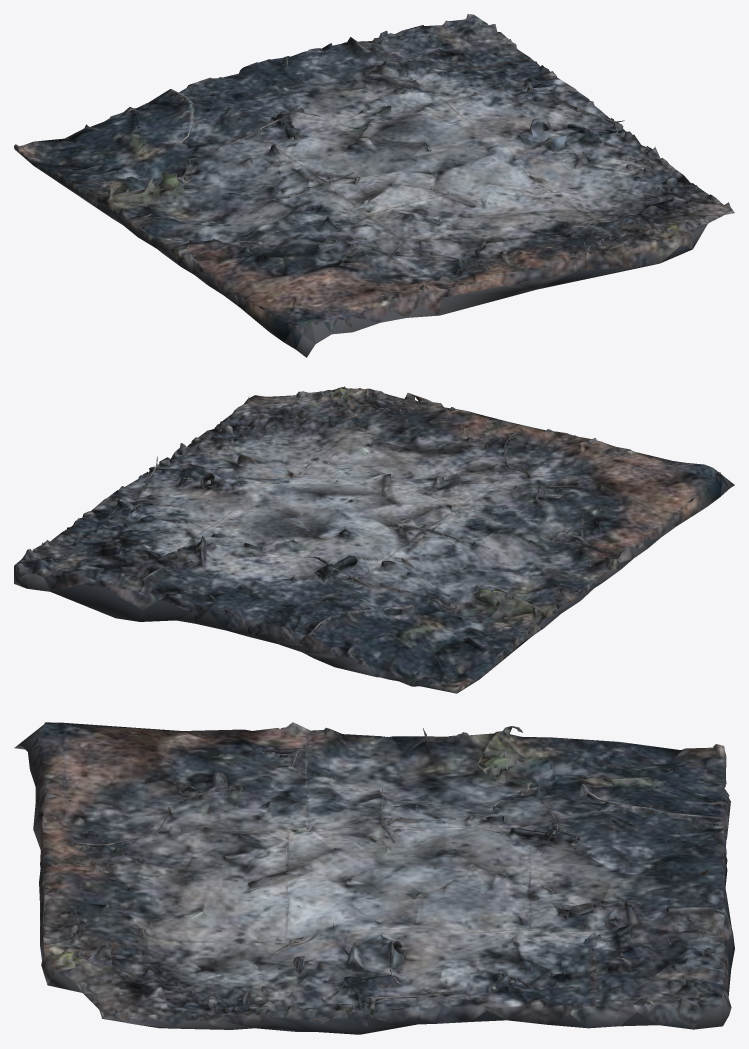
The model's file is hearth-ash-mobile.glb.
The picture shows the model from 3 angles, top to bottom: view 1: azimuth 30°, elevation 25°; view 2: azimuth 150°, elevation 25°; view 3: azimuth 270°, elevation 25°; orthographic projection. The views are drawn at different scales.
Visible parts, largest first — view 1: Hearth_Ash; view 2: Hearth_Ash; view 3: Hearth_Ash.
Boxes of the visible parts, x1,y1,x2,y2 form: Hearth_Ash: (14, 14, 734, 357); Hearth_Ash: (14, 386, 734, 693); Hearth_Ash: (14, 722, 734, 1034).
Size of the model in its own units: 0.6268 by 0.067 by 0.68.
Materials: 1 (1 with a texture image).
